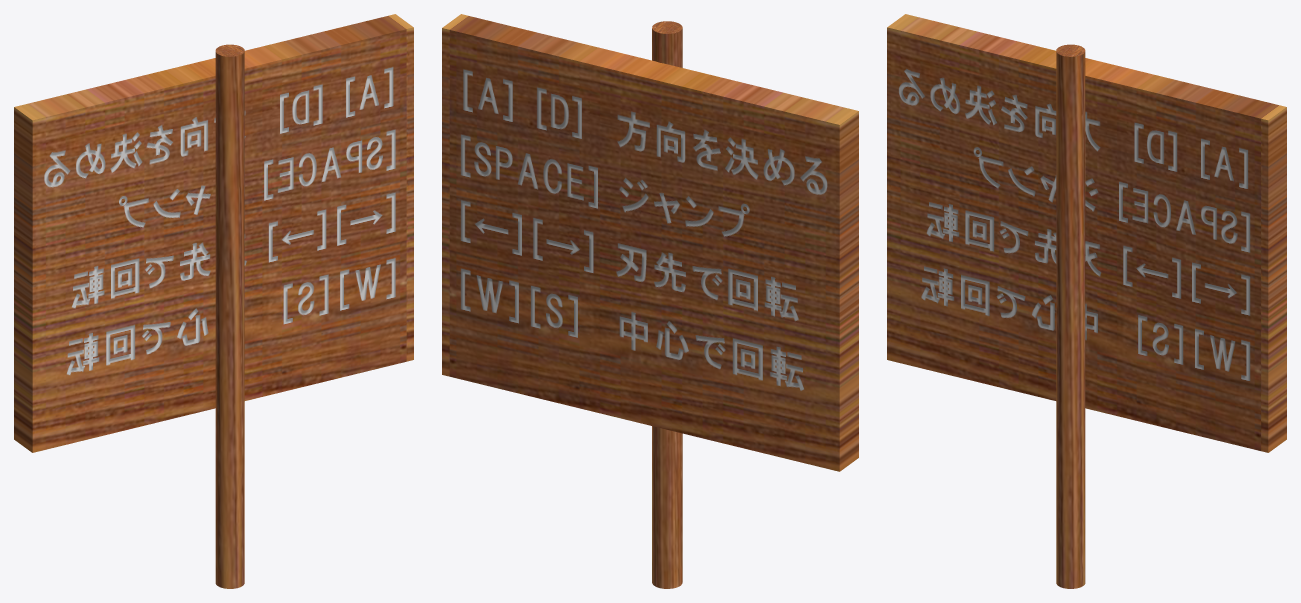
Rendered from Sign.fbx.
The picture shows the model from 3 angles, left to right: view 1: azimuth 30°, elevation 25°; view 2: azimuth 150°, elevation 25°; view 3: azimuth 330°, elevation 25°; orthographic projection. The views are drawn at different scales.
Visible parts, largest first — view 1: pCube1, pCylinder1; view 2: pCube1, pCylinder1; view 3: pCube1, pCylinder1.
Part boxes in pixels (x1=…): pCube1: x1=14, y1=14, x2=413, y2=452; pCylinder1: x1=215, y1=44, x2=244, y2=588; pCube1: x1=442, y1=14, x2=858, y2=471; pCylinder1: x1=652, y1=21, x2=682, y2=588; pCube1: x1=887, y1=14, x2=1286, y2=452; pCylinder1: x1=1056, y1=44, x2=1085, y2=588.
Size of the model in its own units: 1.2 by 1.6 by 0.1781.
2 materials, 2 textured.
